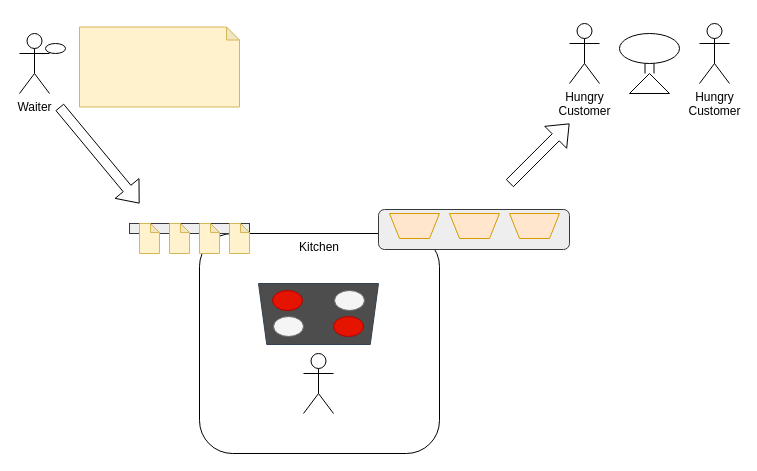
The diagram is 757 pixels wide and 471 high, and some of its shapes have lost their labels. Here are the shapes that lost their labels. From the top down, the centre of each, then its label:
At [159,66]: "1x Guacamole 1x Quesadilla 2x Barbacoa Tacos 2x Margarita".
At [318,383]: "Chef".
